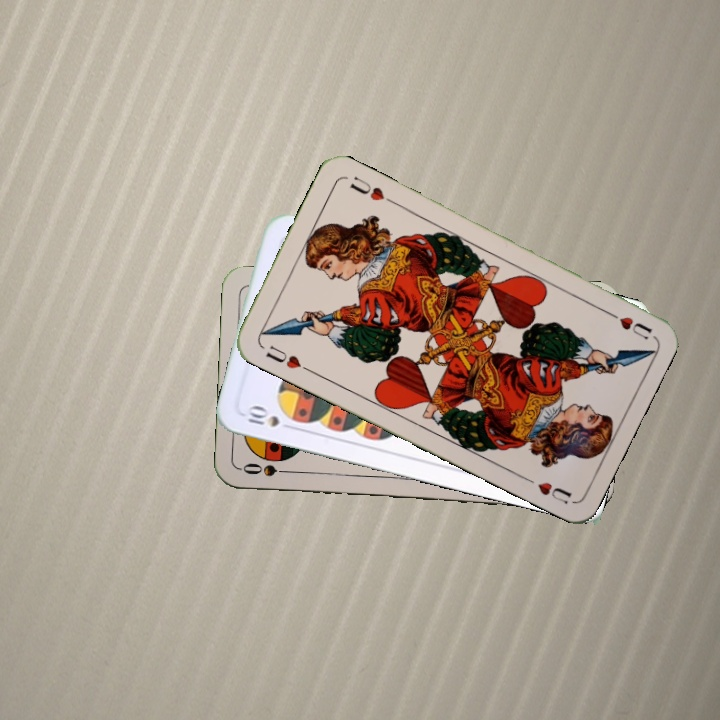HU: (600, 306, 655, 342), (261, 341, 313, 375)
S10: (242, 402, 298, 432)
SO: (239, 459, 298, 479)
